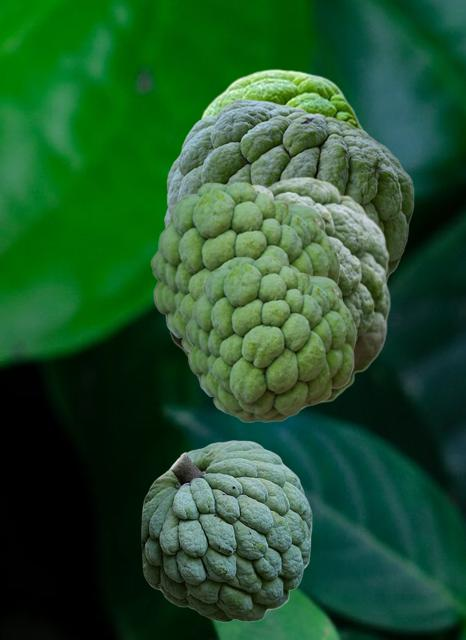atis: (169, 176, 390, 410), (164, 98, 413, 282), (150, 182, 339, 354), (141, 440, 311, 621), (185, 256, 355, 421), (198, 68, 367, 130)
